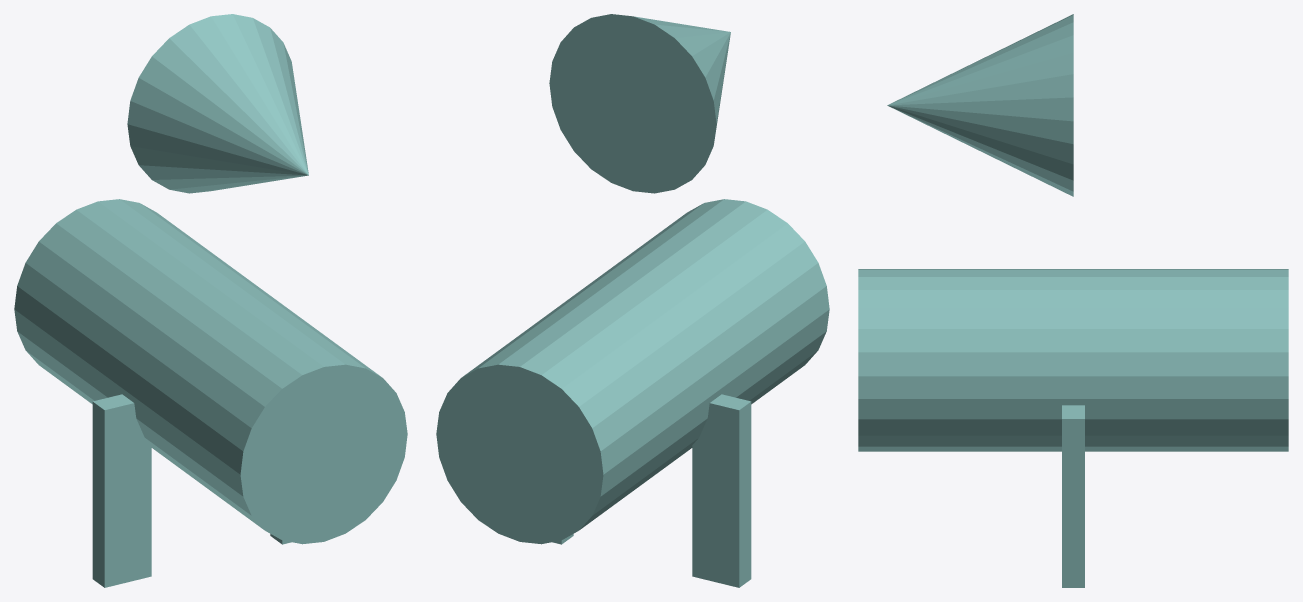
File: nature_159.glb
3 renders of one model, left to right at view 1: azimuth 30°, elevation 25°; view 2: azimuth 150°, elevation 25°; view 3: azimuth 270°, elevation 25°, orthographic. The views are drawn at different scales.
Parts seen in each view (by area): view 1: world; view 2: world; view 3: world.
Boxes of the visible parts, x1,y1,x2,y2 form: world: (14, 14, 407, 587); world: (436, 14, 829, 587); world: (858, 14, 1288, 587).
Bounding box in the file's own units: 0.86 × 1.97 × 1.5.
